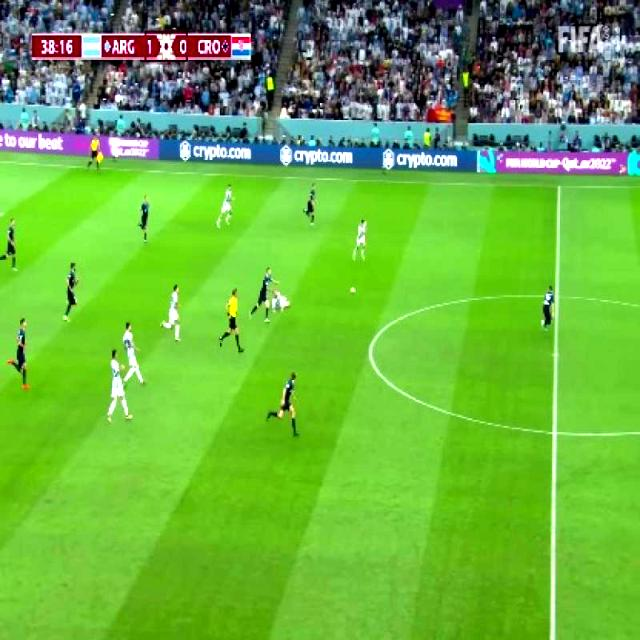bigarea_top_inner: (0, 203, 10, 220)
halfcircle_bottom: (542, 417, 566, 446)
halfcircle_top: (548, 284, 568, 310)
midline_top_intersection: (550, 175, 568, 197)
